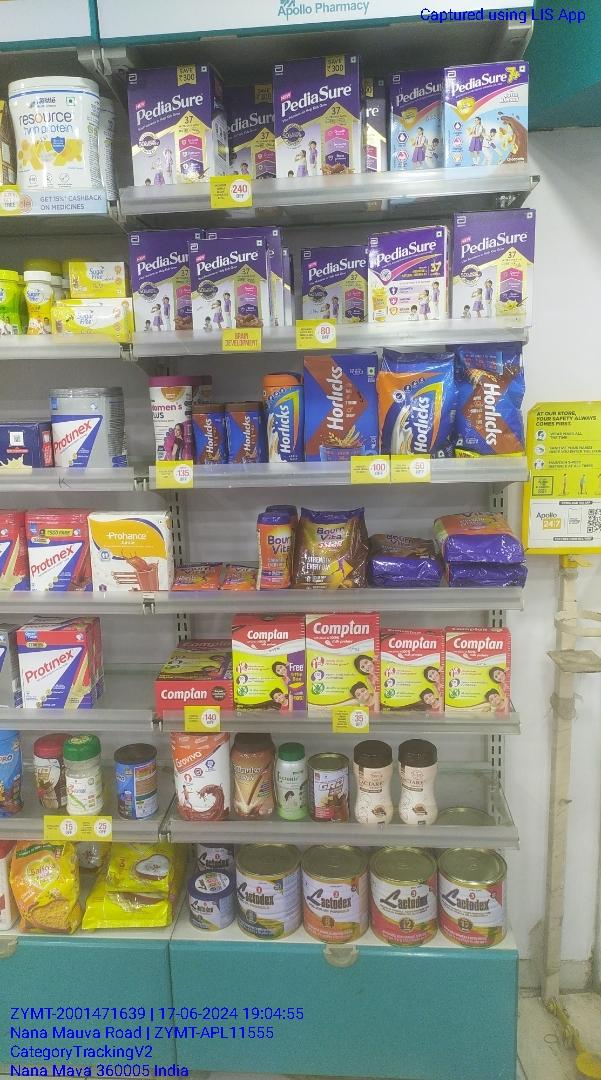BOURN_VITA_500_G_JAR: (260, 513, 292, 589)
BOURN_VITA_FIVE_STAR_MAGIC_500_G_POUCH: (293, 509, 360, 589)
COMPLAN_CHOCOLATE_500_GMS_PACK: (233, 625, 306, 716), (381, 635, 441, 717)
COMPLAN_KESAR_BADAM_500_GMS_PACK: (307, 615, 378, 718), (447, 632, 508, 716)
HORLICK_CHOCOLATE_200_G_JAR: (192, 401, 227, 468), (229, 403, 261, 463)
HORLICK_CHOCOLATE_500_G_PACK: (305, 354, 377, 459)
HORLICK_CHOCOLATE_750_G_POUCH: (462, 348, 526, 458)
HORLICK_CLASSIC_MALT_500_G_JAR: (264, 371, 302, 468)
HORLICK_CLASSIC_MALT_750_G_POUCH: (378, 349, 455, 455)
PEDIASURE_7_PLUS_CHOCOLATE_400_G_PACK: (446, 66, 529, 167), (387, 69, 441, 169)
PEDIASURE_CHOCOLATE_500_G_PACK: (274, 54, 358, 178), (191, 238, 263, 331), (132, 229, 188, 341)
PEDIASURE_VANILLA_500_G_PACK: (455, 210, 532, 313), (302, 244, 363, 324)
PROTINEX_CHOCOLATE_400_G_JAR: (27, 515, 89, 590)
PROTINEX_ORIGINAL_400_G_JAR: (52, 389, 111, 468)
